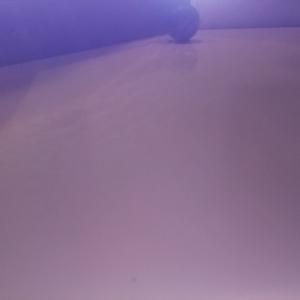dead_ball: (165, 3, 199, 41)
